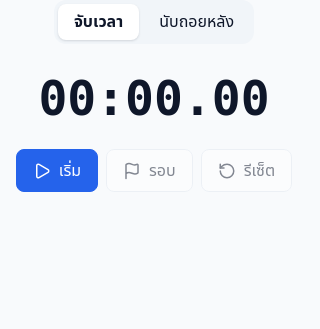
Test: TimerWidget › keeps an accurate countdown after a long background throttle
The width and height of the screenshot is (320, 329).
Step 1. Click the tab "นับถอยหลัง" → (197, 22), box [143,4,250,40]
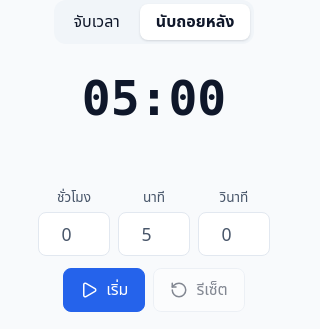
Step 2. Click the button "เริ่ม" → (104, 290), box [63,268,145,312]
Wait 200 ms
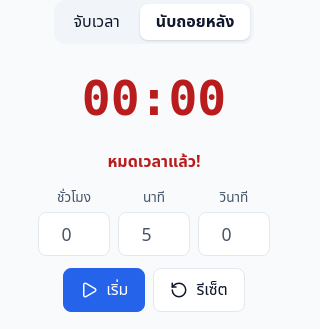
Expected: the text "หมดเวลาแล้ว!" is shown, [107,149,201,174]
